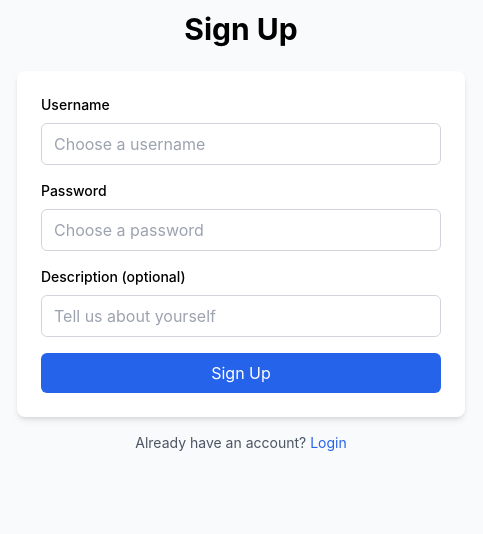
Signup › should show error message on signup failure
The width and height of the screenshot is (483, 534).
In the field with placeholder "Choose a username": [241, 144] box [41,123,441,165], type "existinguser"
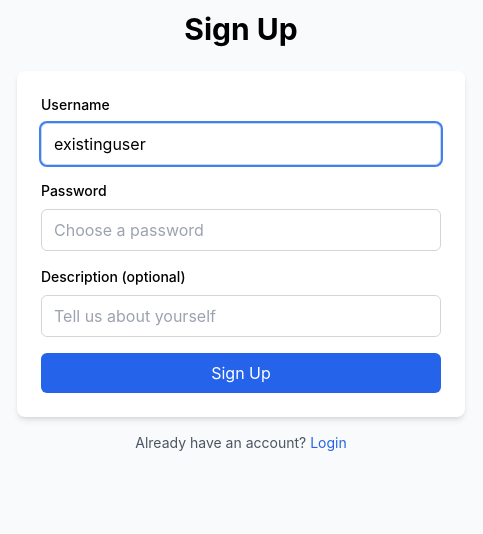
In the password field with placeholder "Choose a password": [241, 230] box [41,209,441,251], type "password123"
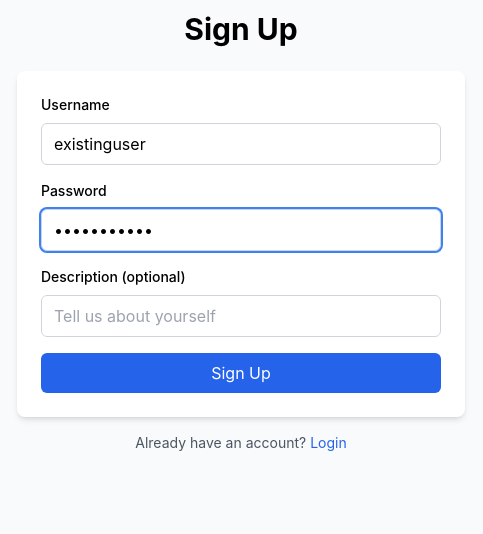
Click the button "Sign Up": [241, 373] box [41,353,441,393]
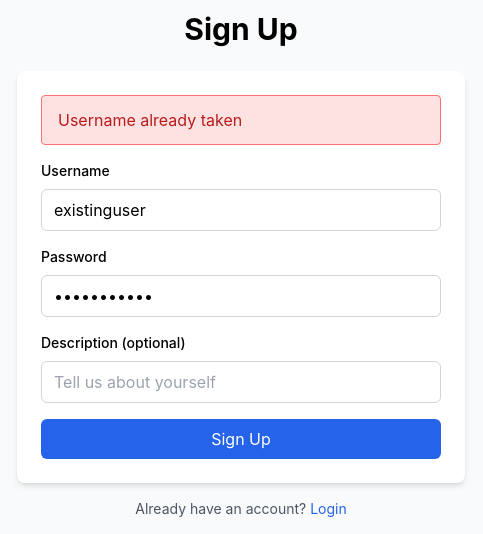
Expected: the text "Username already taken" is shown, [41,95,441,145]
